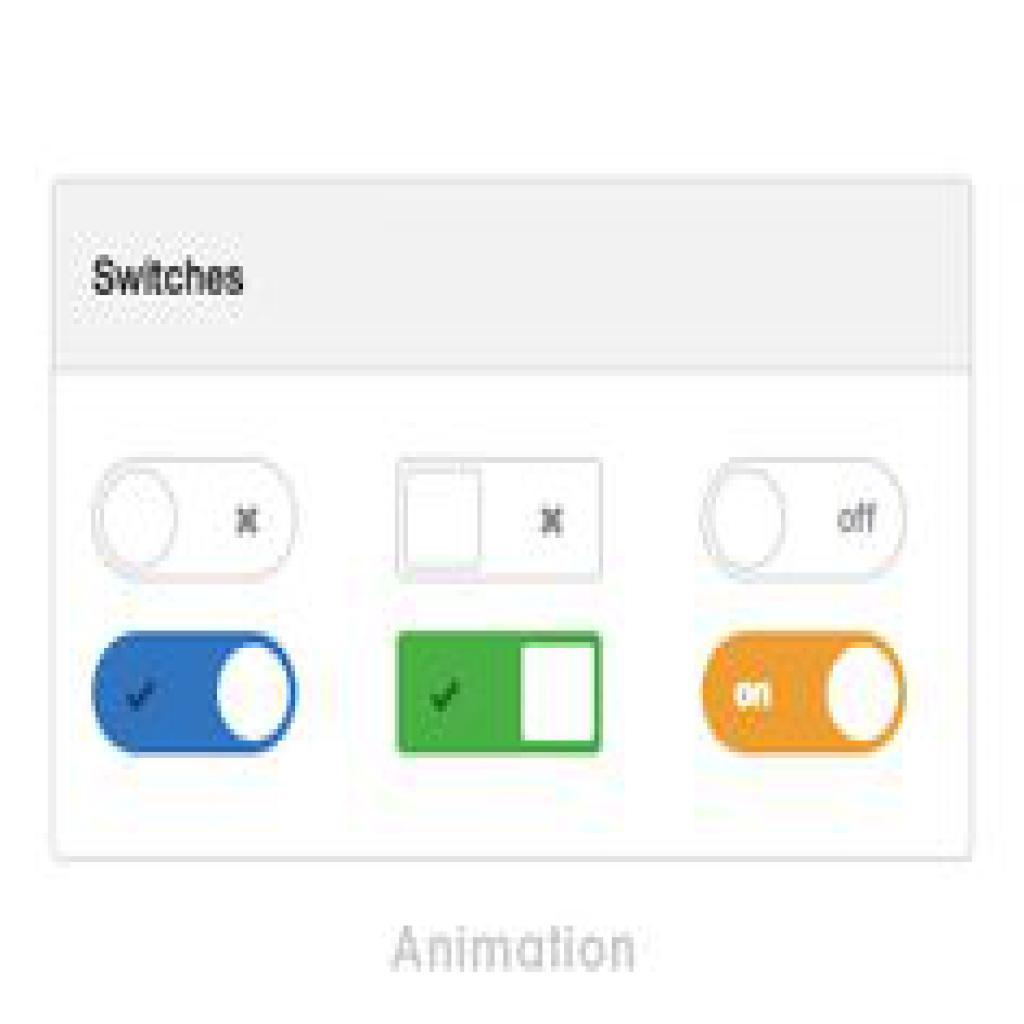switch: (395, 631, 604, 756), (700, 459, 909, 580), (95, 461, 299, 584), (703, 631, 905, 755), (396, 463, 604, 582), (94, 635, 297, 756)
